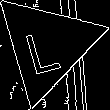L_N: (25, 17, 69, 75)
